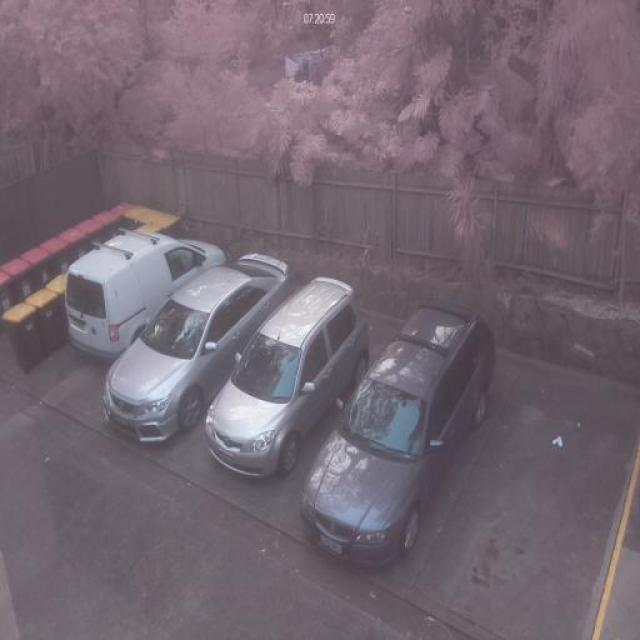Legalparking: (70, 175, 498, 586)
